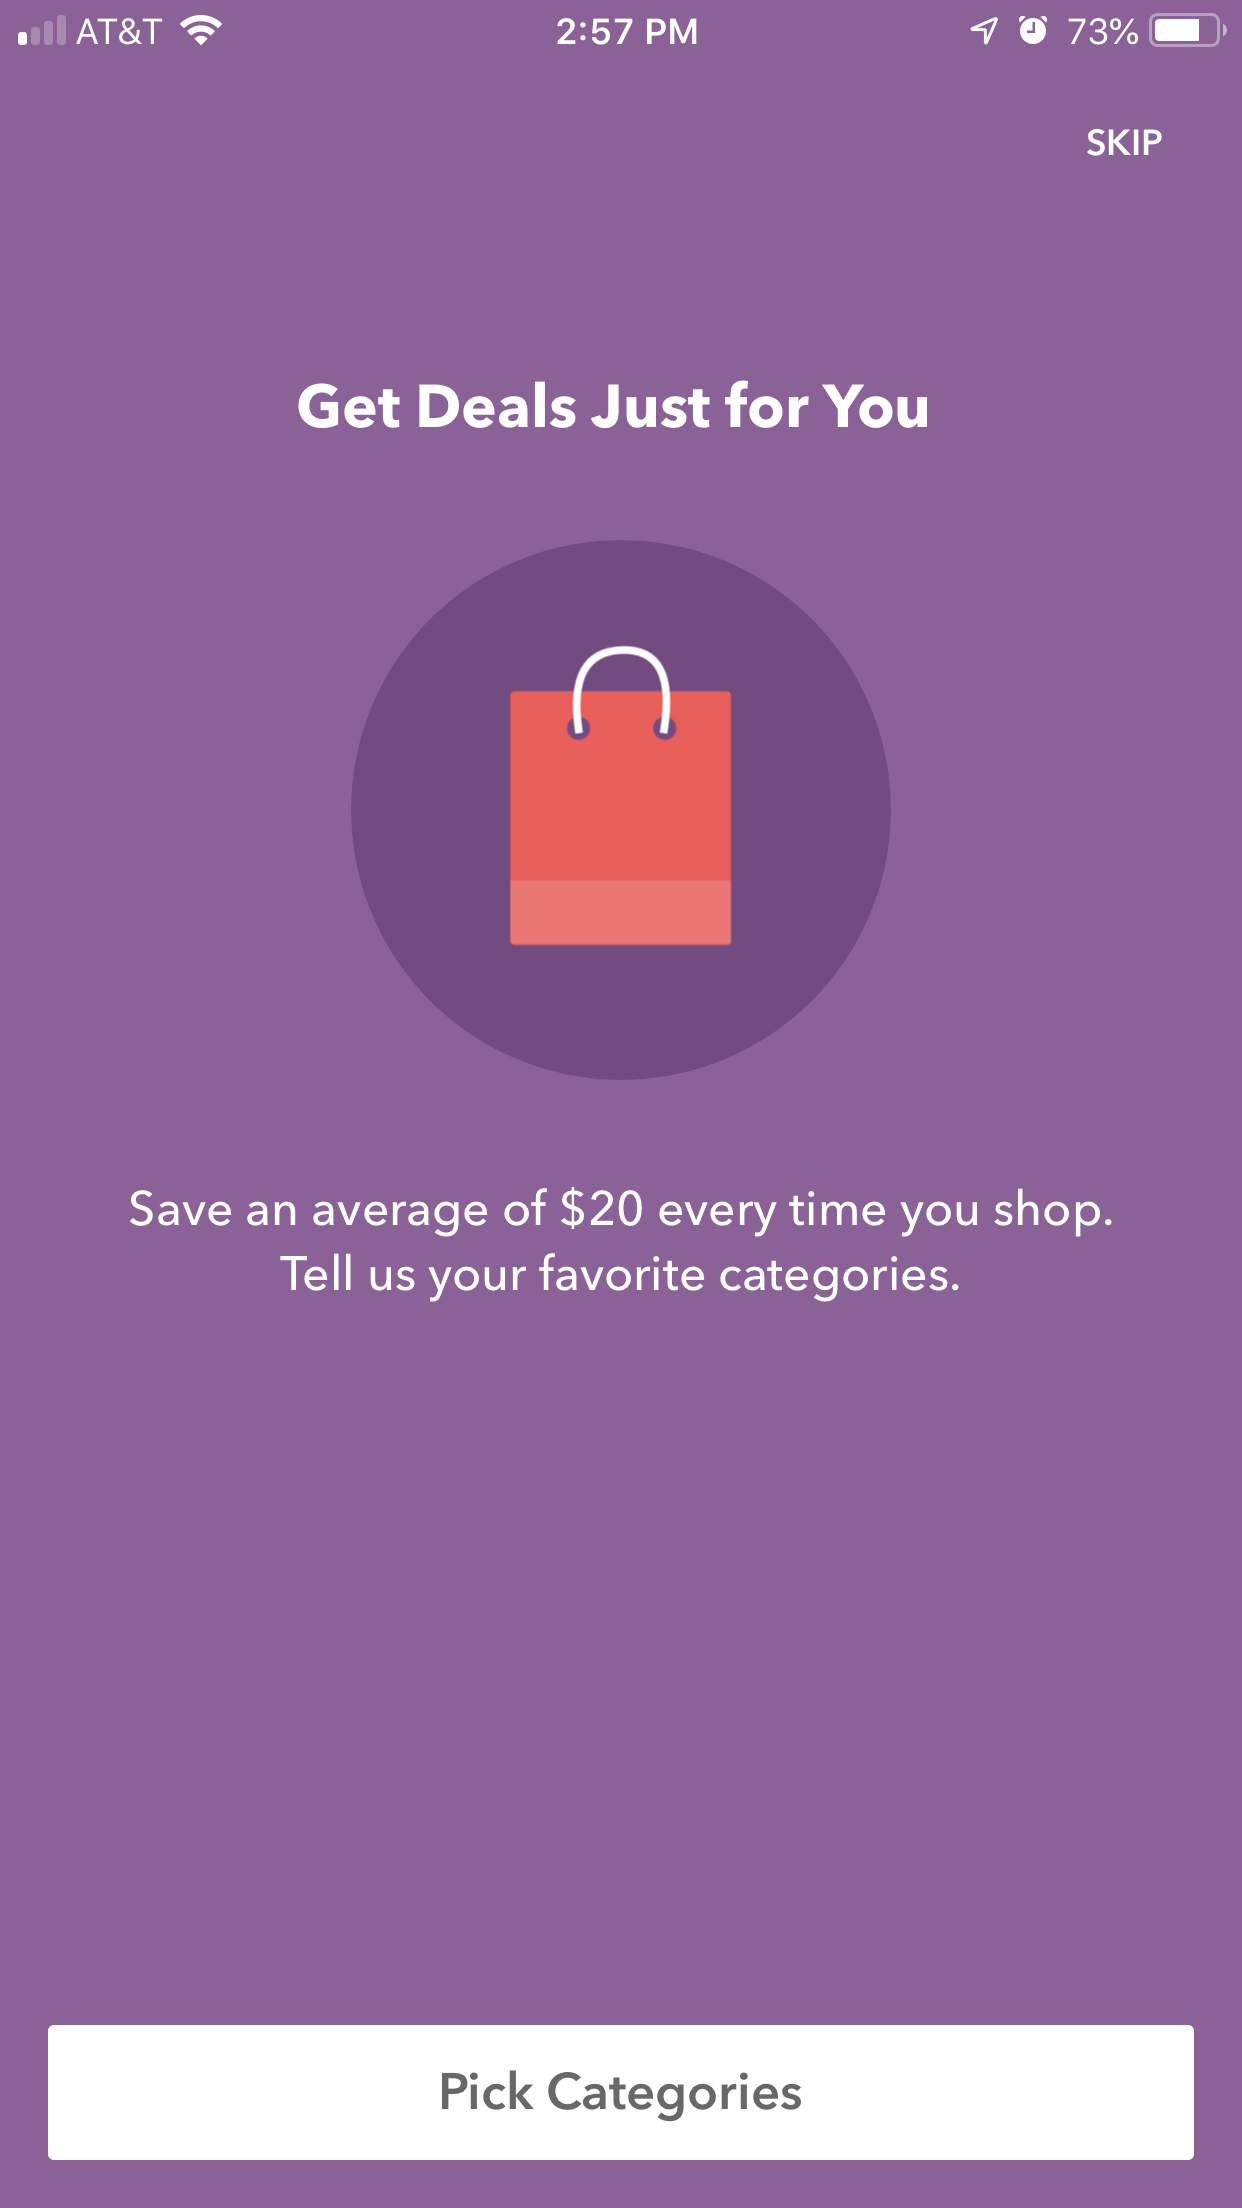Image: (350, 540, 892, 1081)
Text: (129, 1187, 1112, 1304), (299, 381, 928, 431), (1086, 129, 1162, 158)
TextButton: (49, 2025, 1195, 2161)
UpperTaskBar: (2, 2, 1242, 49)
